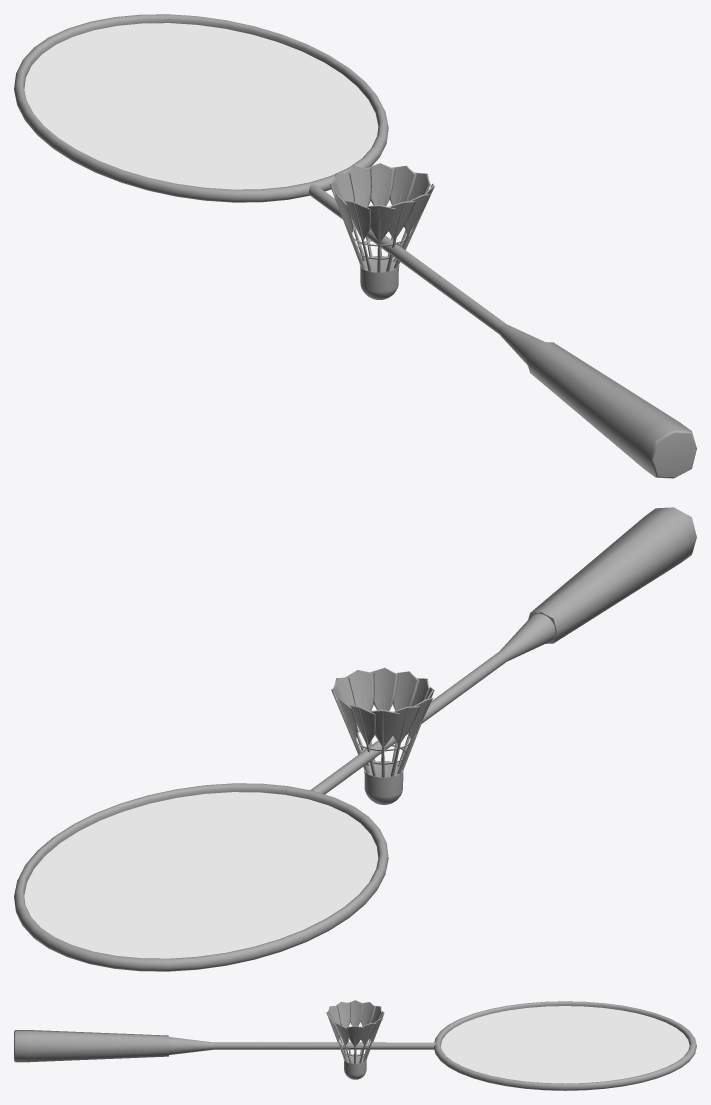
File: racket and shuttle.fbx
3 renders of one model, top to bottom at view 1: azimuth 30°, elevation 25°; view 2: azimuth 150°, elevation 25°; view 3: azimuth 270°, elevation 25°, orthographic. The views are drawn at different scales.
Visible parts, largest first — view 1: racket, shuttle; view 2: racket, shuttle; view 3: racket, shuttle.
Boxes of the visible parts, x1,y1,x2,y2 form: racket: (14, 14, 696, 478); shuttle: (329, 163, 434, 299); racket: (14, 507, 696, 971); shuttle: (331, 667, 434, 804); racket: (14, 1001, 696, 1090); shuttle: (326, 1000, 384, 1079).
Bounding box in the file's own units: 29.63 × 10.84 × 101.
